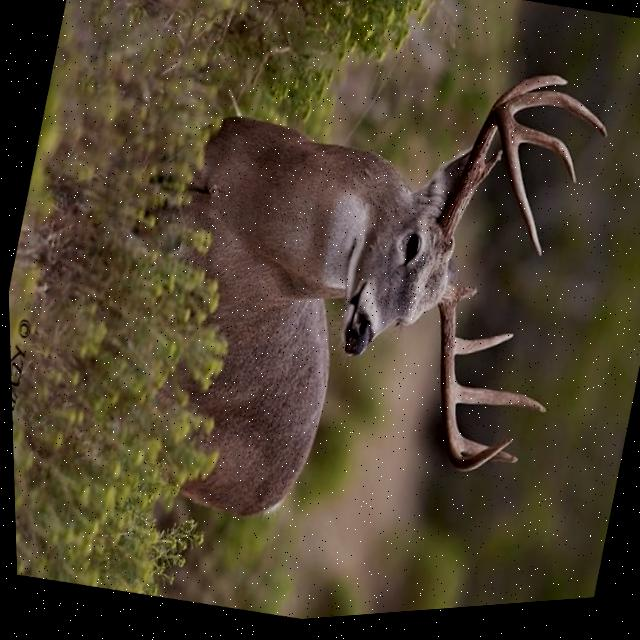L-G1: (450, 292, 475, 312)
L-G2: (449, 339, 511, 362)
L-G3: (450, 383, 544, 421)
R-F: (434, 109, 539, 267)
R-G3: (500, 98, 606, 148)
R-G4: (511, 127, 574, 194)
